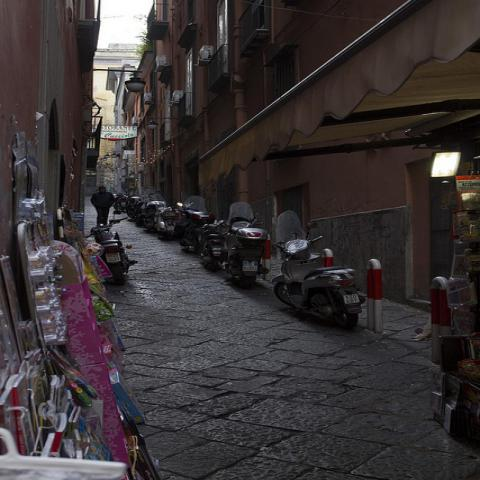motorcycle: (270, 235, 361, 325), (85, 206, 144, 286), (223, 202, 270, 283), (172, 194, 216, 253), (199, 218, 226, 273), (152, 201, 176, 236), (126, 197, 147, 224), (144, 204, 156, 232)
